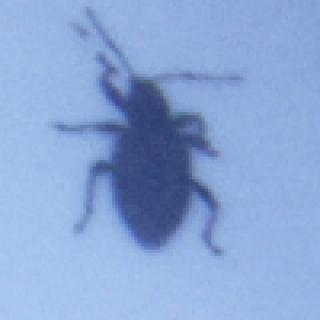bvw: (51, 3, 244, 261)
